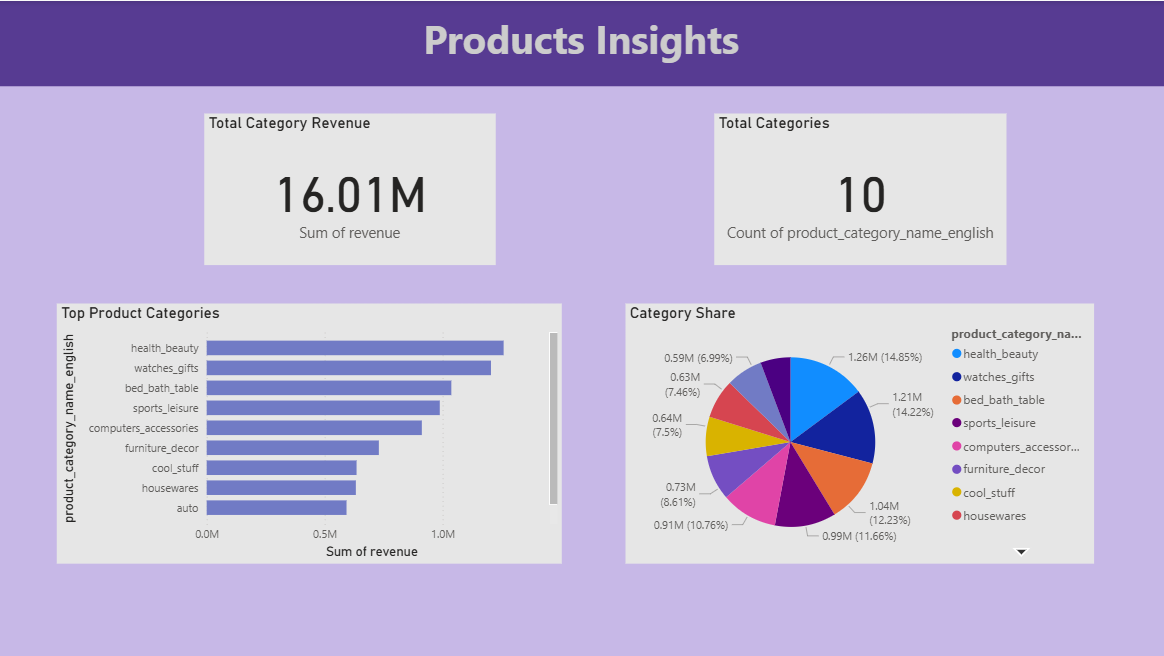

What the dashboard file says about the page in this screenshot:
{"tool":"powerbi","page":{"name":"Products Insights","canvas":[1280,720],"ordinal":2},"visuals":[{"type":"clusteredBarChart","title":"Top Product Categories","fields":{"Category":["top_categories.product_category_name_english"],"Y":["Sum(top_categories.revenue)"]},"box":[64.5,332.1,554.4,285.4],"z":0},{"type":"pieChart","title":"Category Share","fields":{"Category":["top_categories.product_category_name_english"],"Y":["Sum(top_categories.revenue)"]},"box":[688.9,332.1,514.6,285.4],"z":1},{"type":"card","title":"Total Category Revenue","fields":{"Values":["Sum(monthly_revenue.revenue)"]},"box":[226.4,123.5,319.7,166],"z":2},{"type":"textbox","box":[0,0,1280.3,93.3],"z":3},{"type":"card","title":"Total Categories","fields":{"Values":["Count(top_categories.product_category_name_english)"]},"box":[786.3,123.5,321.1,166],"z":4}]}

Visuals, with their boxes in screenshot pixels (x1, y1, x2, y2), scaled from the page's 1280x720 canvas onto the 1164x656 screenshot:
"Top Product Categories" clusteredBarChart: (x1=59, y1=303, x2=563, y2=563)
"Category Share" pieChart: (x1=626, y1=303, x2=1094, y2=563)
"Total Category Revenue" card: (x1=206, y1=113, x2=497, y2=264)
textbox: (x1=0, y1=0, x2=1163, y2=85)
"Total Categories" card: (x1=715, y1=113, x2=1007, y2=264)
